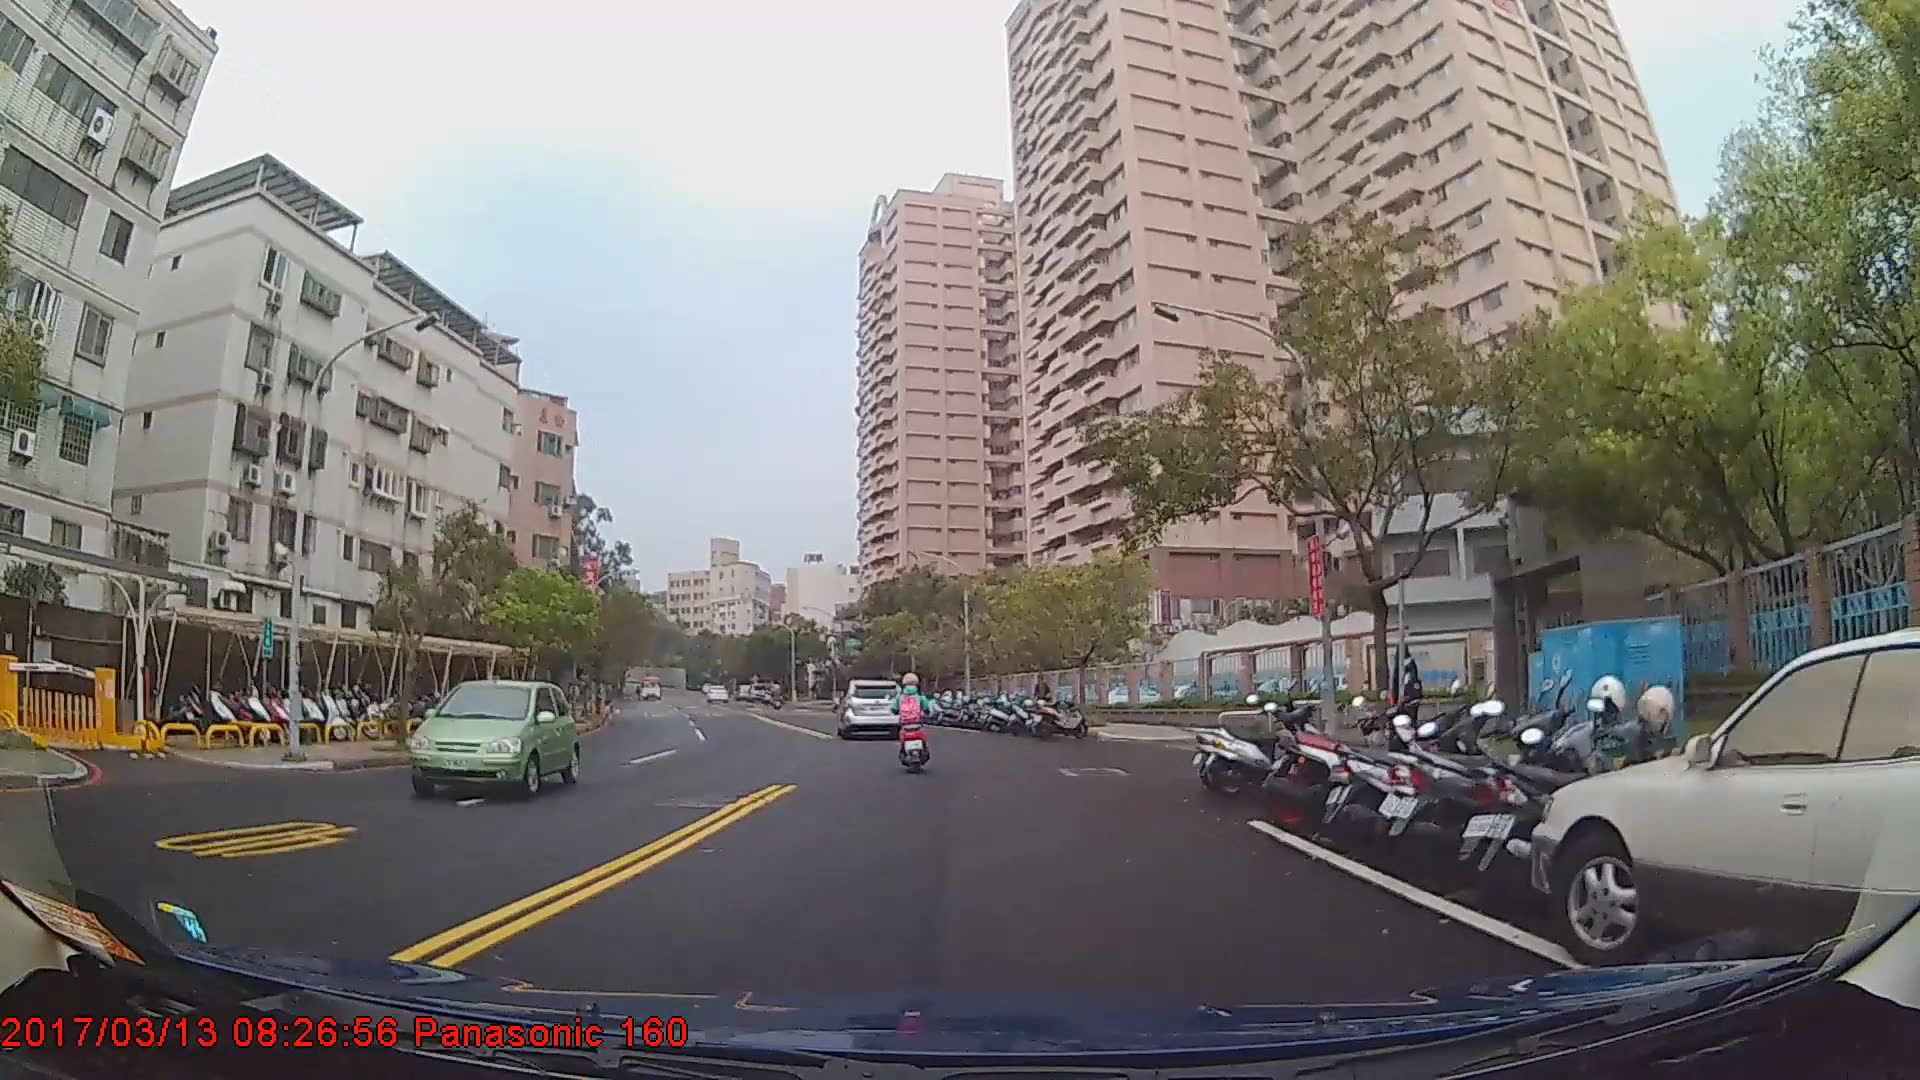pedestrian: (1392, 638, 1424, 752), (1033, 673, 1054, 728)
rider: (893, 673, 936, 779)
vehicle: (1529, 624, 1920, 984), (408, 678, 575, 798), (839, 675, 905, 739), (636, 676, 663, 703)
